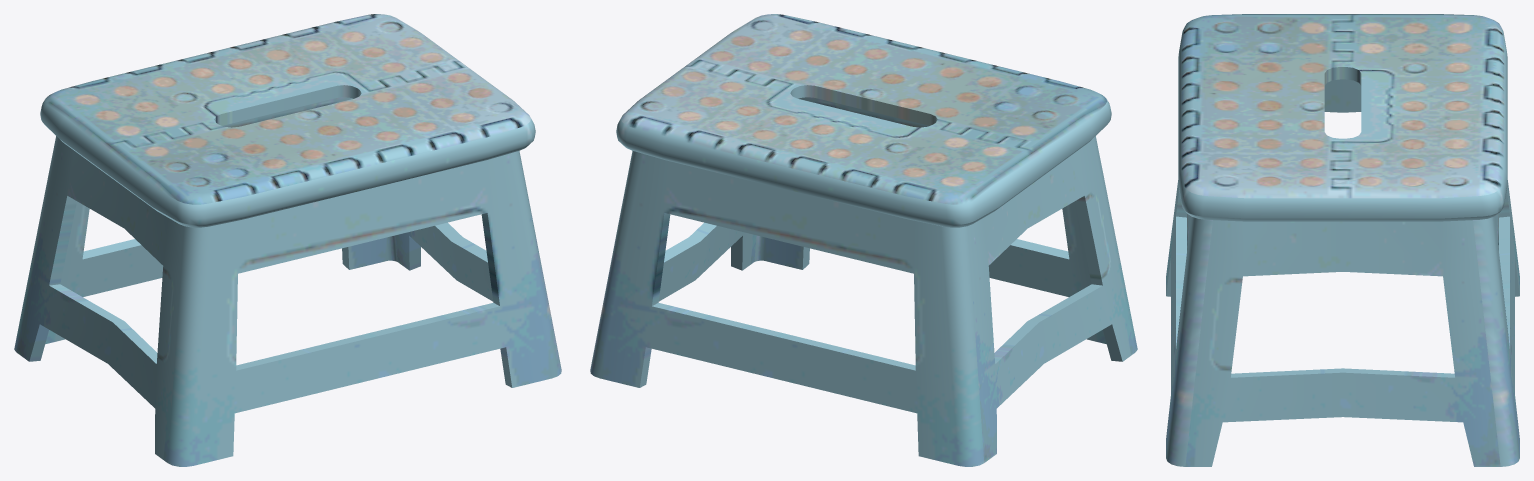
The model's file is banquito.fbx.
The picture shows the model from 3 angles, left to right: view 1: azimuth 30°, elevation 25°; view 2: azimuth 150°, elevation 25°; view 3: azimuth 270°, elevation 25°; orthographic projection. The views are drawn at different scales.
Parts seen in each view (by area): view 1: banquito; view 2: banquito; view 3: banquito.
Part boxes in pixels (x1,y1,x2,y2): banquito: [14, 14, 561, 466]; banquito: [590, 14, 1137, 466]; banquito: [1166, 14, 1519, 466].
Size of the model in its own units: 33.93 by 21.32 by 25.45.
